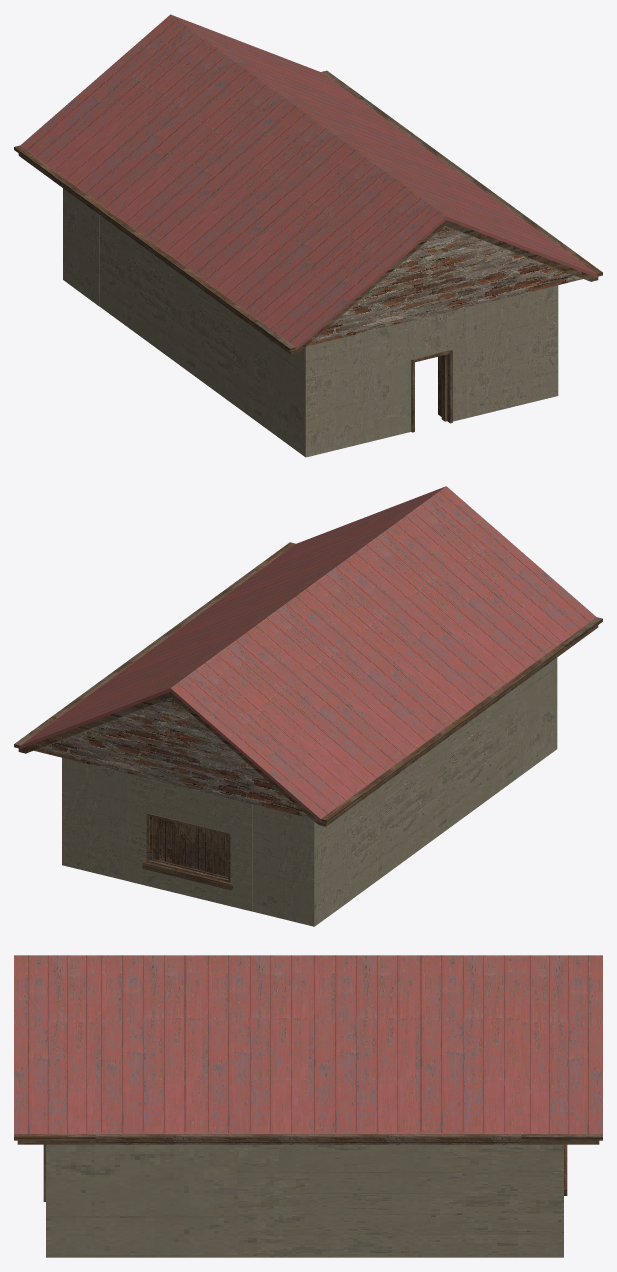
The model's file is house1.glb.
3 views of the same model, one above another, from view 1: azimuth 30°, elevation 25°; view 2: azimuth 150°, elevation 25°; view 3: azimuth 270°, elevation 25° (orthographic). The views are drawn at different scales.
Parts seen in each view (by area): view 1: start roof.001; view 2: start roof.001; view 3: start roof.001.
Boxes of the visible parts, x1,y1,x2,y2 form: start roof.001: (14, 14, 602, 457); start roof.001: (14, 486, 602, 926); start roof.001: (14, 955, 602, 1257).
Size of the model in its own units: 10.87 by 7.35 by 16.6.
1 material, 1 textured.
